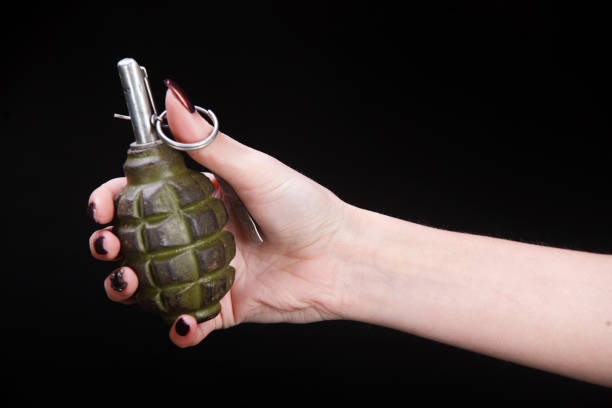e1: (112, 56, 237, 322)
